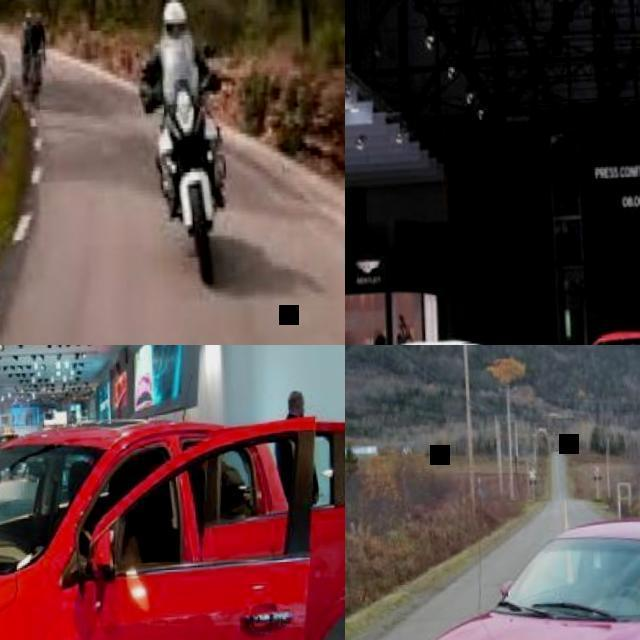car: (2, 416, 343, 639), (347, 0, 454, 288)
